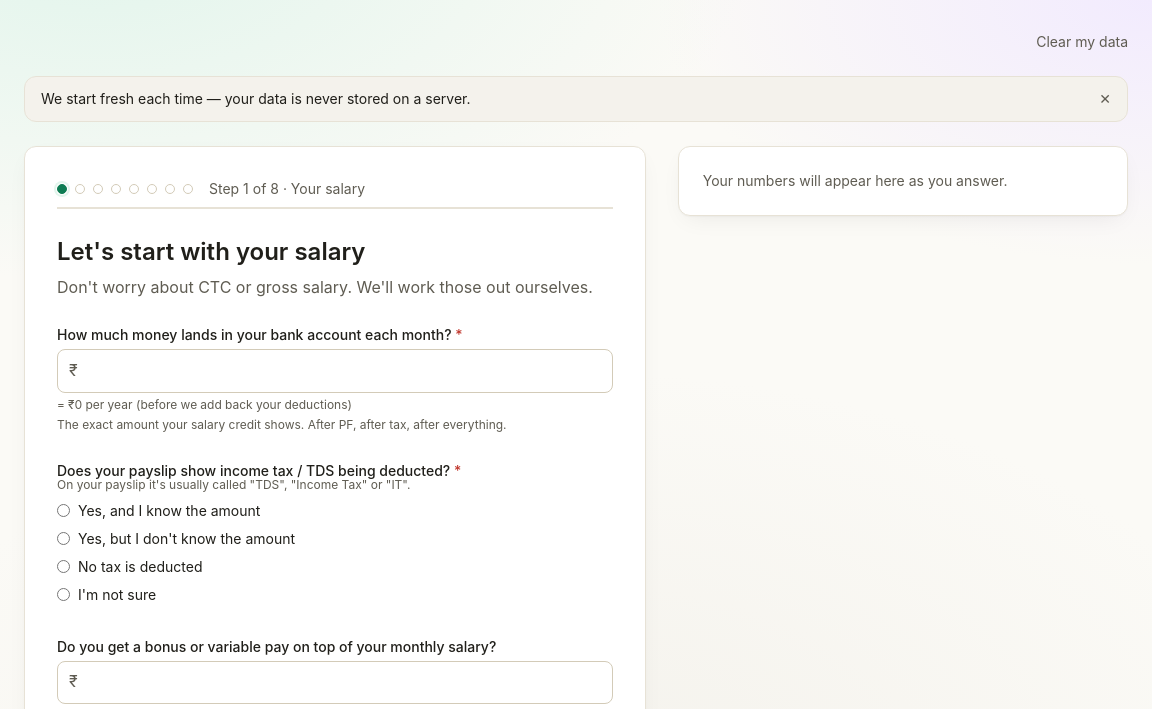
it: WizardShell — step 1 › clears an entered value when Clear my data is pressed
The image size is (1152, 709).
Type "100000" into the field labelled "How much money lands in your bank account each month? *" at (335, 371), box [57, 349, 613, 393]
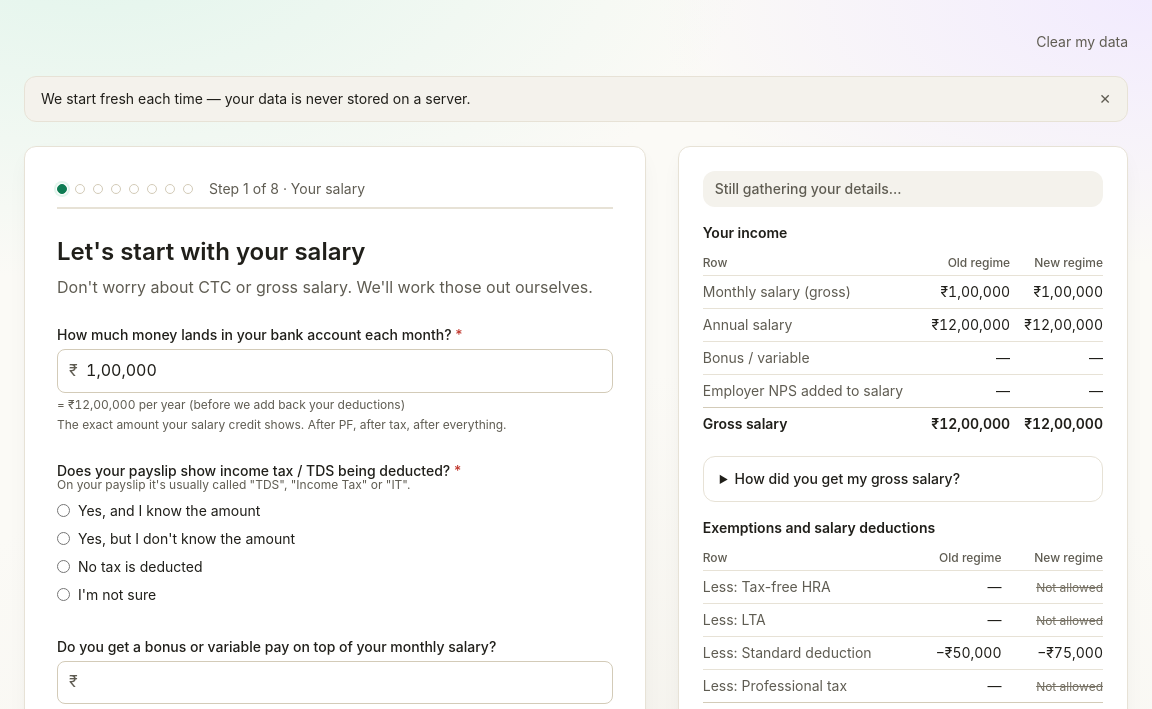
Now the field labelled "How much money lands in your bank account each month? *" is not empty, box [57, 349, 613, 393]
Click the button "Clear my data" at (1082, 42), box [1036, 32, 1128, 52]
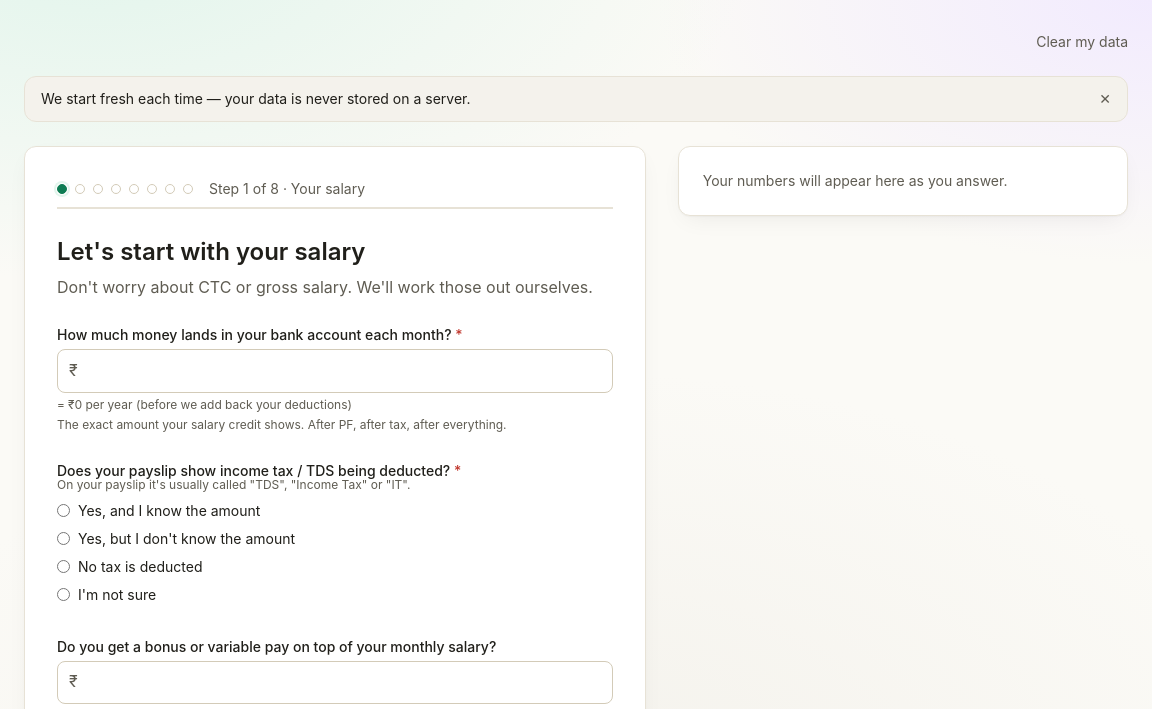
Now the field labelled "How much money lands in your bank account each month? *" is empty, box [57, 349, 613, 393]
Now the text "Your numbers will appear here as you answer." is shown, box [703, 172, 1008, 189]
